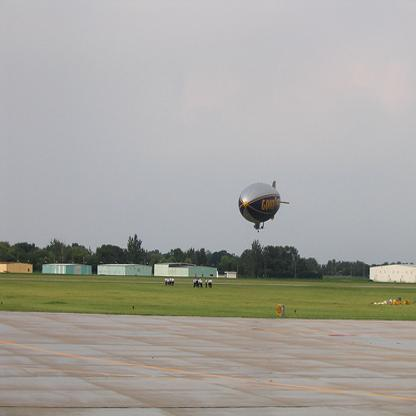Airship: (228, 171, 295, 242)
